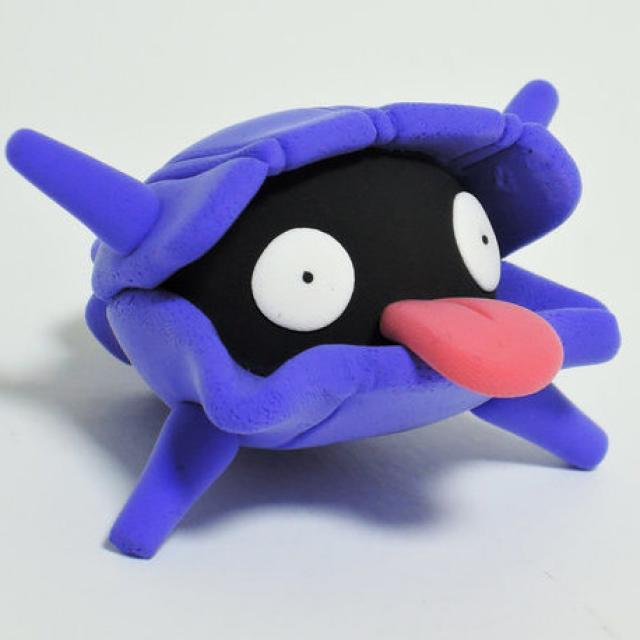Shellder: (72, 109, 596, 478)
